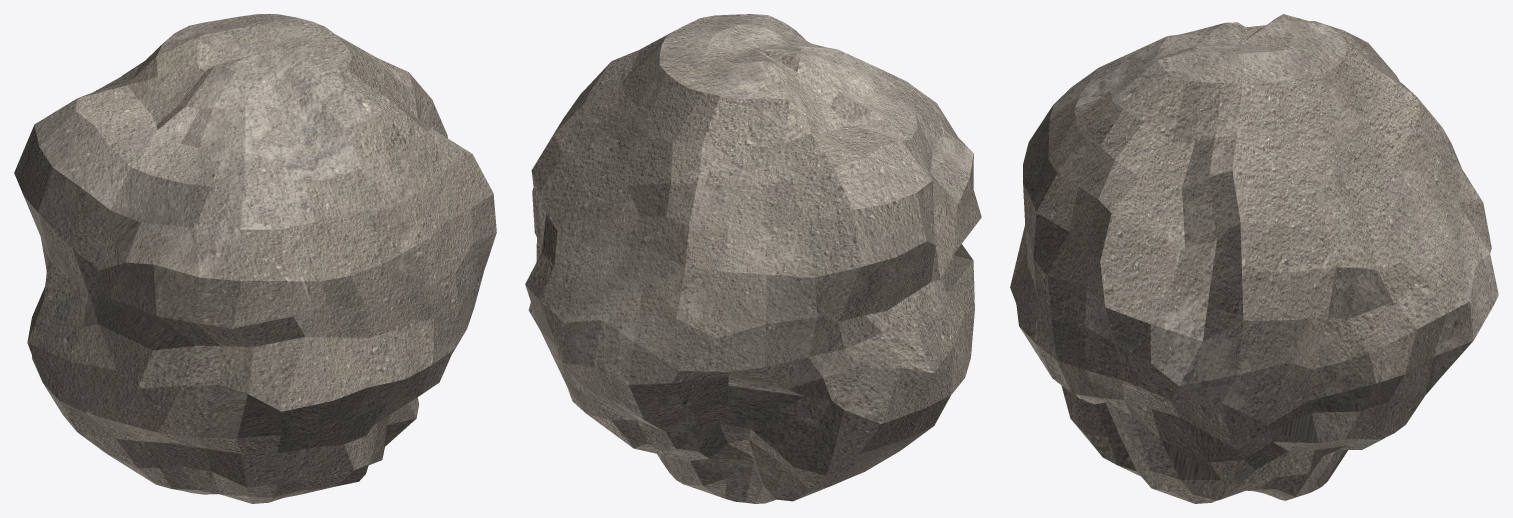
Rendered from asteroid.obj.
The picture shows the model from 3 angles, left to right: view 1: azimuth 30°, elevation 25°; view 2: azimuth 150°, elevation 25°; view 3: azimuth 270°, elevation 25°; orthographic projection. The views are drawn at different scales.
Visible parts, largest first — view 1: Sphere; view 2: Sphere; view 3: Sphere.
Part boxes in pixels (<box>): Sphere: <box>14,14,496,503</box>; Sphere: <box>525,14,981,503</box>; Sphere: <box>1010,14,1498,503</box>.
Size of the model in its own units: 2.15 by 2.27 by 2.2.
